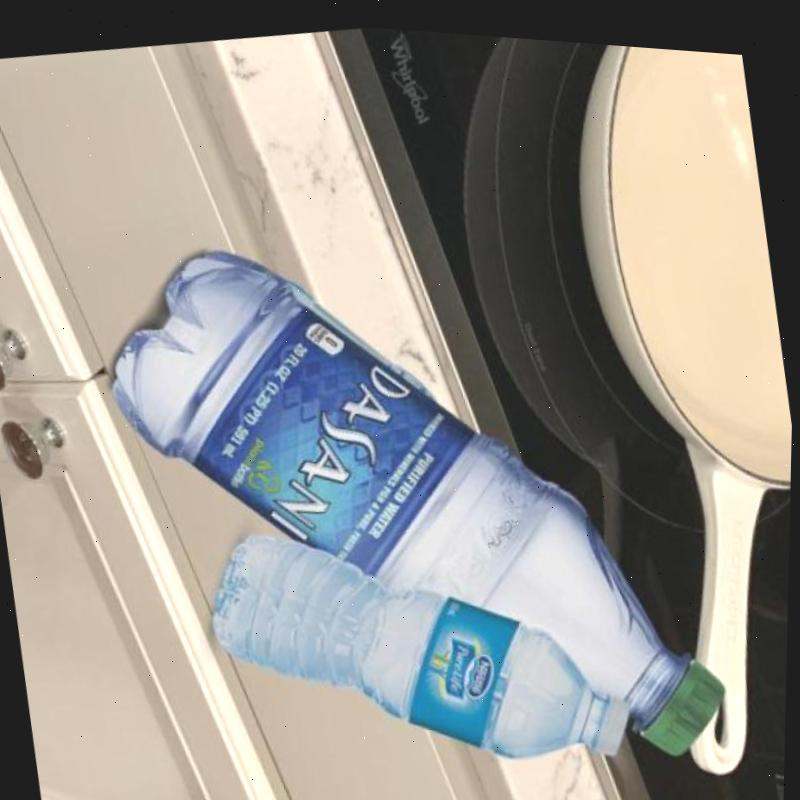botella: (86, 172, 741, 800), (188, 469, 649, 800)
